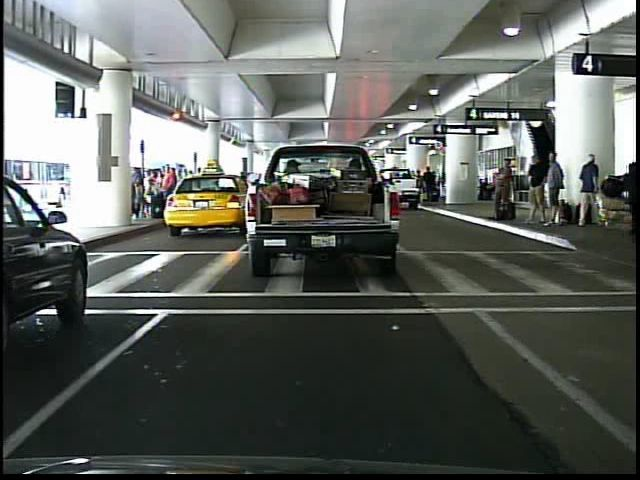person: (575, 151, 599, 230), (623, 146, 637, 249)
